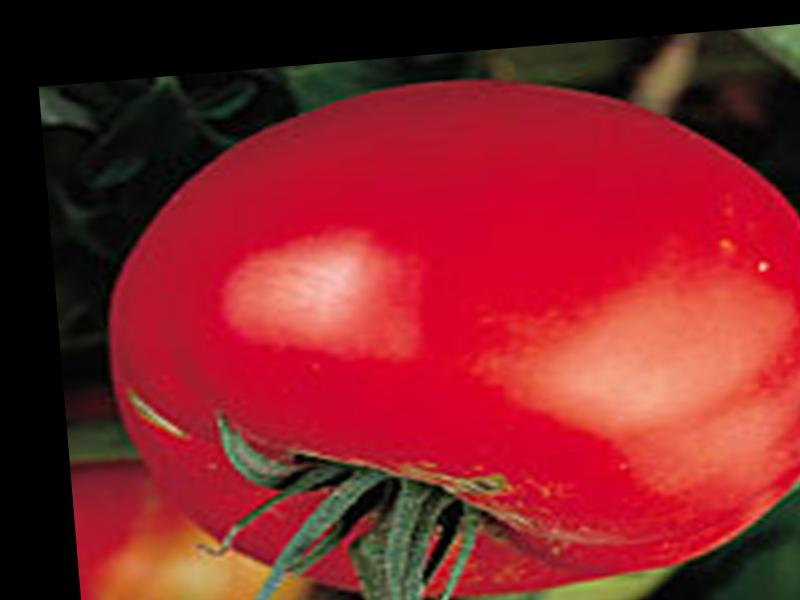Tomato: (96, 49, 800, 600)
